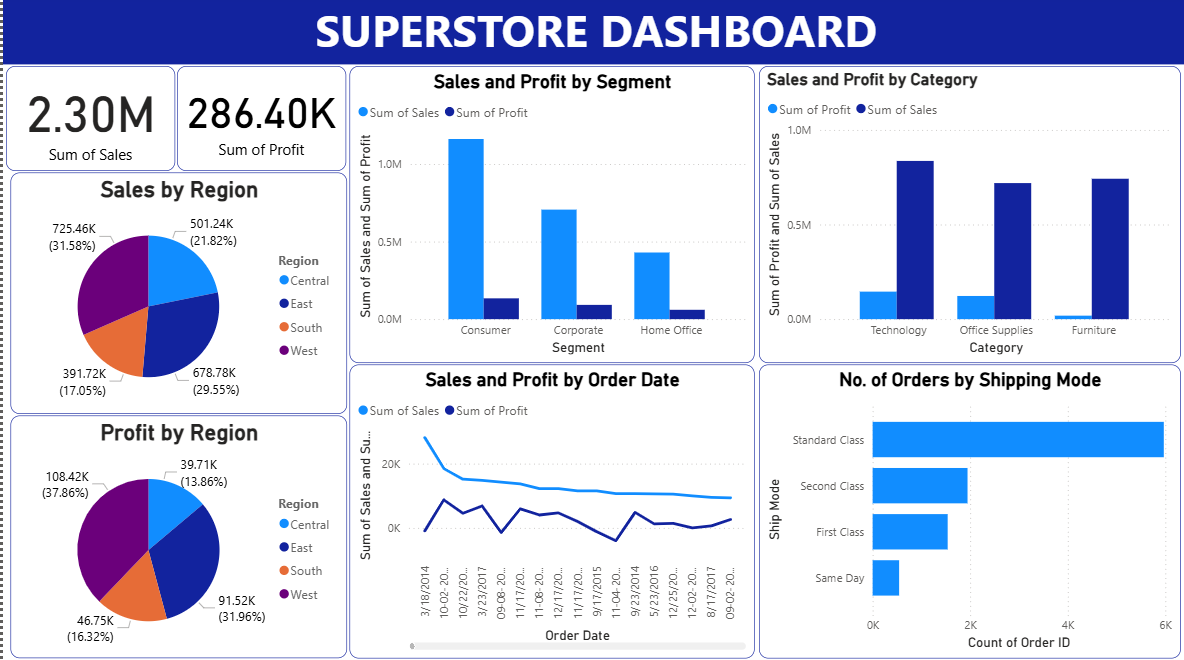

The dashboard page shown, as its layout file describes it:
{"tool":"powerbi","page":{"name":"Page 1","canvas":[1280,720],"ordinal":0},"visuals":[{"type":"textbox","box":[0,0,1280.8,76.1],"z":0},{"type":"card","fields":{"Values":["Sum(Superstore.Sales)"]},"box":[4,77.7,183,113.3],"z":1000},{"type":"card","fields":{"Values":["Sum(Superstore.Profit)"]},"box":[188.6,77.7,183,113.3],"z":2000},{"type":"pieChart","title":"Sales by Region","fields":{"Y":["Sum(Superstore.Sales)"],"Category":["Superstore.Region"]},"box":[7.6,192.3,363.4,260.4],"z":3000},{"type":"clusteredBarChart","title":"No. of Orders by Shipping Mode","fields":{"Category":["Superstore.Ship Mode"],"Y":["CountNonNull(Superstore.Order ID)"]},"box":[816.9,399.9,455,317.4],"z":4000},{"type":"lineChart","title":"Sales and Profit by Order Date","fields":{"Y":["Sum(Superstore.Sales)","Sum(Superstore.Profit)"],"Category":["Superstore.Order Date"]},"box":[374,399.9,437.2,317.4],"z":5000},{"type":"clusteredColumnChart","title":"Sales and Profit by Segment","fields":{"Category":["Superstore.Segment"],"Y":["Sum(Superstore.Sales)","Sum(Superstore.Profit)"]},"box":[374.8,77.7,437.2,320.6],"z":6000},{"type":"clusteredColumnChart","title":"Sales and Profit by Category","fields":{"Y":["Sum(Superstore.Profit)","Sum(Superstore.Sales)"],"Category":["Superstore.Category"]},"box":[816.9,77.7,455,320.6],"z":7000},{"type":"pieChart","title":"Profit by Region","fields":{"Y":["Sum(Superstore.Profit)"],"Category":["Superstore.Region"]},"box":[7.6,454.3,363.4,262],"z":8000}]}

Visuals, with their boxes in screenshot pixels (x1, y1, x2, y2), scaled from the page's 1280x720 canvas onto the 1184x660 screenshot:
textbox: <box>0,0,1183,70</box>
card - Sum(Superstore.Sales): <box>4,71,173,175</box>
card - Sum(Superstore.Profit): <box>174,71,344,175</box>
"Sales by Region" pieChart: <box>7,176,343,415</box>
"No. of Orders by Shipping Mode" clusteredBarChart: <box>756,367,1177,658</box>
"Sales and Profit by Order Date" lineChart: <box>346,367,750,658</box>
"Sales and Profit by Segment" clusteredColumnChart: <box>347,71,751,365</box>
"Sales and Profit by Category" clusteredColumnChart: <box>756,71,1177,365</box>
"Profit by Region" pieChart: <box>7,416,343,657</box>
